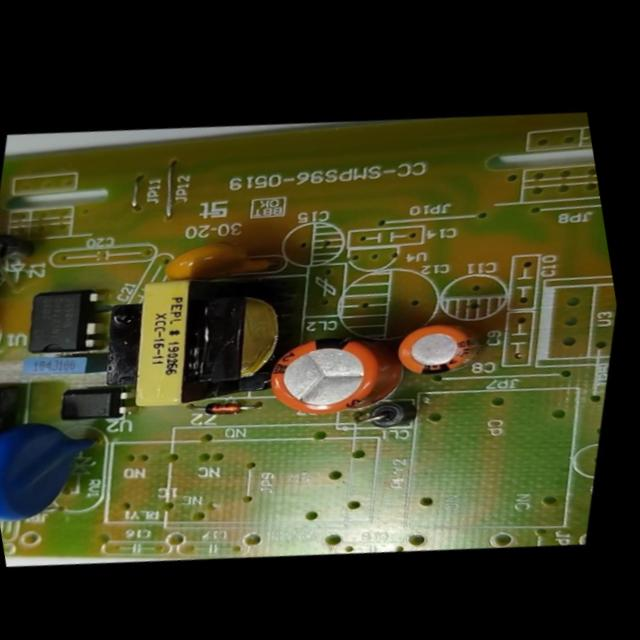Cap1: (238, 300, 435, 452)
Cap2: (372, 293, 514, 401)
Cap4: (0, 211, 63, 325)
MOSFET: (7, 265, 138, 377)
Mov: (0, 380, 151, 547)
Transformer: (65, 228, 351, 452), (0, 373, 62, 469)
